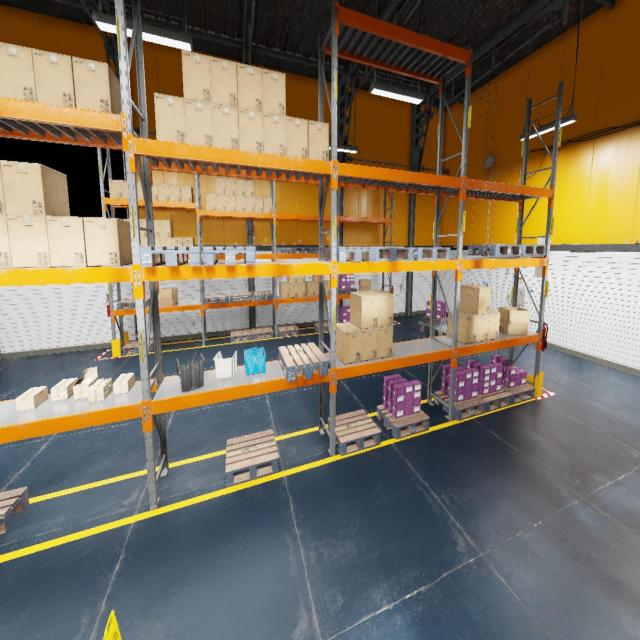box: (0, 160, 70, 216), (72, 56, 122, 114), (32, 48, 76, 107), (6, 215, 51, 268), (84, 217, 132, 266), (0, 42, 37, 102), (46, 216, 87, 266), (154, 92, 186, 143), (182, 49, 212, 103), (210, 56, 238, 108), (184, 98, 213, 146), (236, 62, 262, 112), (212, 104, 238, 149), (262, 68, 286, 116), (238, 108, 263, 153), (350, 291, 378, 329), (447, 310, 478, 344), (336, 322, 361, 364), (366, 290, 394, 327), (263, 112, 286, 155), (460, 284, 490, 315), (460, 310, 489, 342), (286, 116, 308, 158), (498, 307, 529, 335), (308, 120, 329, 160), (73, 366, 98, 399), (15, 386, 48, 411), (0, 215, 13, 268), (51, 378, 78, 401), (88, 378, 112, 402), (361, 328, 377, 362), (377, 326, 393, 358), (113, 372, 135, 395), (158, 288, 178, 306), (488, 310, 500, 339), (0, 160, 6, 214), (158, 220, 174, 237), (108, 179, 122, 198), (180, 184, 194, 202), (169, 184, 181, 202), (158, 183, 170, 201), (182, 238, 195, 254), (235, 179, 245, 196), (225, 178, 235, 195), (216, 178, 226, 195), (206, 193, 216, 210), (280, 282, 290, 298), (235, 196, 245, 212), (226, 195, 236, 211), (216, 194, 226, 210), (358, 279, 371, 291), (305, 281, 315, 296), (254, 197, 264, 212), (245, 196, 254, 212), (245, 180, 254, 196), (139, 220, 147, 237), (137, 181, 144, 200), (121, 180, 128, 199), (264, 197, 272, 213), (151, 182, 158, 200), (297, 283, 305, 297), (289, 284, 297, 298), (171, 237, 182, 246), (160, 237, 171, 246), (324, 280, 330, 295), (154, 220, 159, 237), (313, 281, 318, 296), (140, 237, 147, 246), (287, 276, 297, 282), (297, 276, 305, 282), (155, 238, 160, 246), (312, 275, 318, 281)
pallets: (225, 429, 279, 487), (328, 410, 380, 456), (278, 343, 328, 382), (377, 405, 430, 439), (434, 391, 486, 420), (0, 486, 29, 534), (139, 246, 203, 266), (202, 247, 256, 266), (324, 246, 376, 262), (478, 389, 512, 412), (502, 384, 535, 404), (468, 244, 522, 256), (499, 244, 546, 256), (376, 247, 413, 261), (122, 339, 154, 355), (413, 247, 450, 260), (116, 298, 150, 310), (422, 315, 448, 327), (230, 329, 252, 342), (252, 327, 273, 340), (204, 293, 228, 304), (277, 325, 299, 337), (230, 292, 252, 302), (314, 321, 330, 333), (254, 291, 272, 301), (336, 288, 357, 294), (223, 248, 242, 254), (276, 248, 294, 254), (294, 248, 313, 253), (313, 248, 324, 253)
